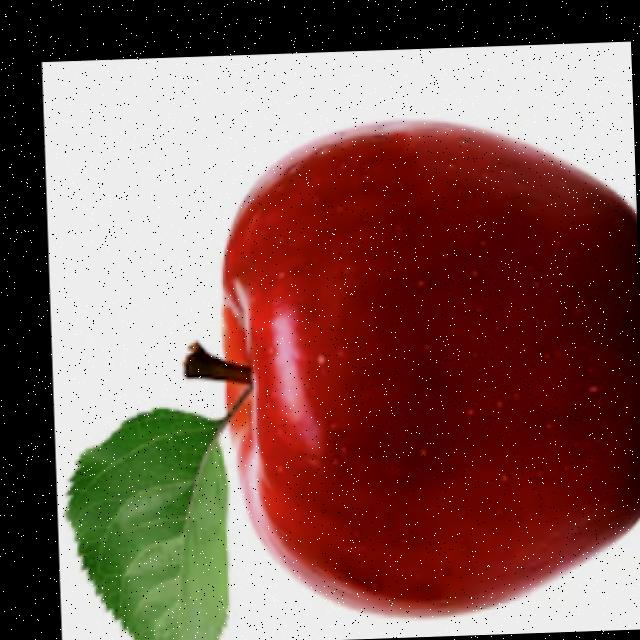Ripe: (169, 106, 640, 630)
